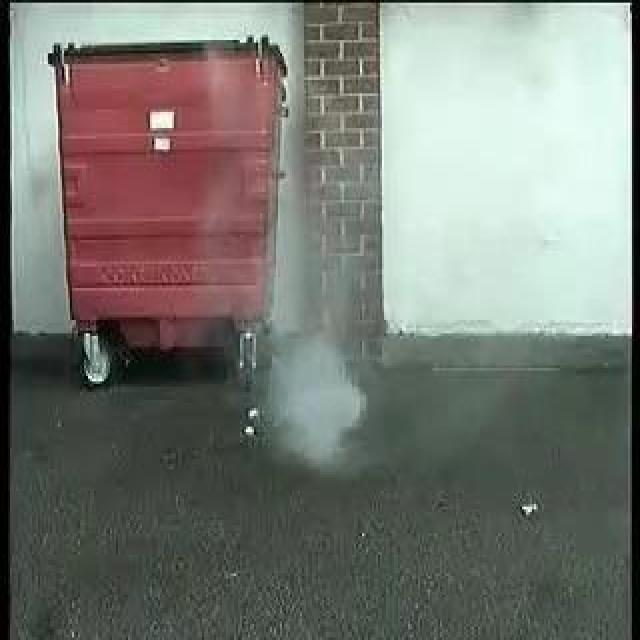Smoke: (265, 300, 369, 463)
